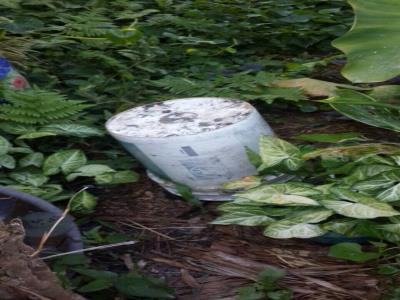bucket: (102, 94, 285, 203)
